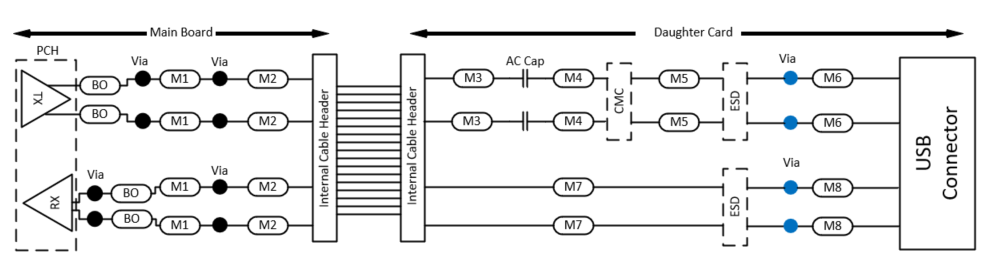capacitor: (513, 66, 538, 95), (515, 105, 536, 138)
circle: (133, 66, 156, 88), (780, 214, 801, 236), (210, 68, 231, 88), (210, 176, 231, 195), (778, 114, 798, 133), (83, 186, 104, 203), (212, 111, 229, 131), (782, 178, 801, 195), (785, 68, 799, 89), (136, 112, 152, 130), (87, 209, 101, 228), (211, 217, 227, 233)
dotted_rectangle: (11, 57, 77, 255), (721, 61, 749, 143), (606, 61, 633, 143), (722, 167, 749, 246)
oval: (812, 112, 855, 137), (160, 215, 204, 239), (551, 214, 596, 237), (811, 67, 856, 90), (249, 176, 292, 199), (552, 176, 596, 198), (245, 217, 292, 237), (111, 183, 153, 205), (161, 177, 202, 198), (451, 110, 492, 131), (811, 178, 852, 199), (813, 215, 854, 236), (79, 75, 122, 95), (248, 112, 291, 132), (162, 111, 202, 132), (112, 210, 154, 230), (554, 70, 596, 90), (658, 112, 701, 131), (161, 70, 201, 90), (552, 112, 594, 131), (80, 104, 120, 123), (660, 69, 698, 89), (247, 71, 289, 89), (453, 71, 495, 89)
rectangle: (899, 55, 977, 254), (399, 54, 426, 244), (313, 53, 336, 246)
triangle: (23, 171, 72, 236), (20, 71, 70, 130)
